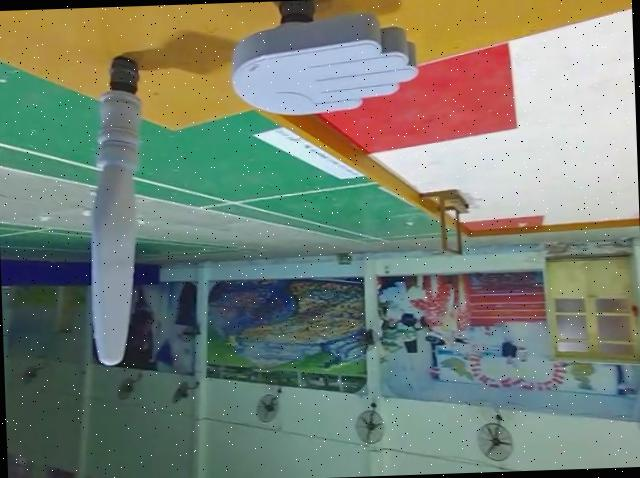Hand: (227, 0, 410, 122)
Sph: (74, 44, 151, 370)
